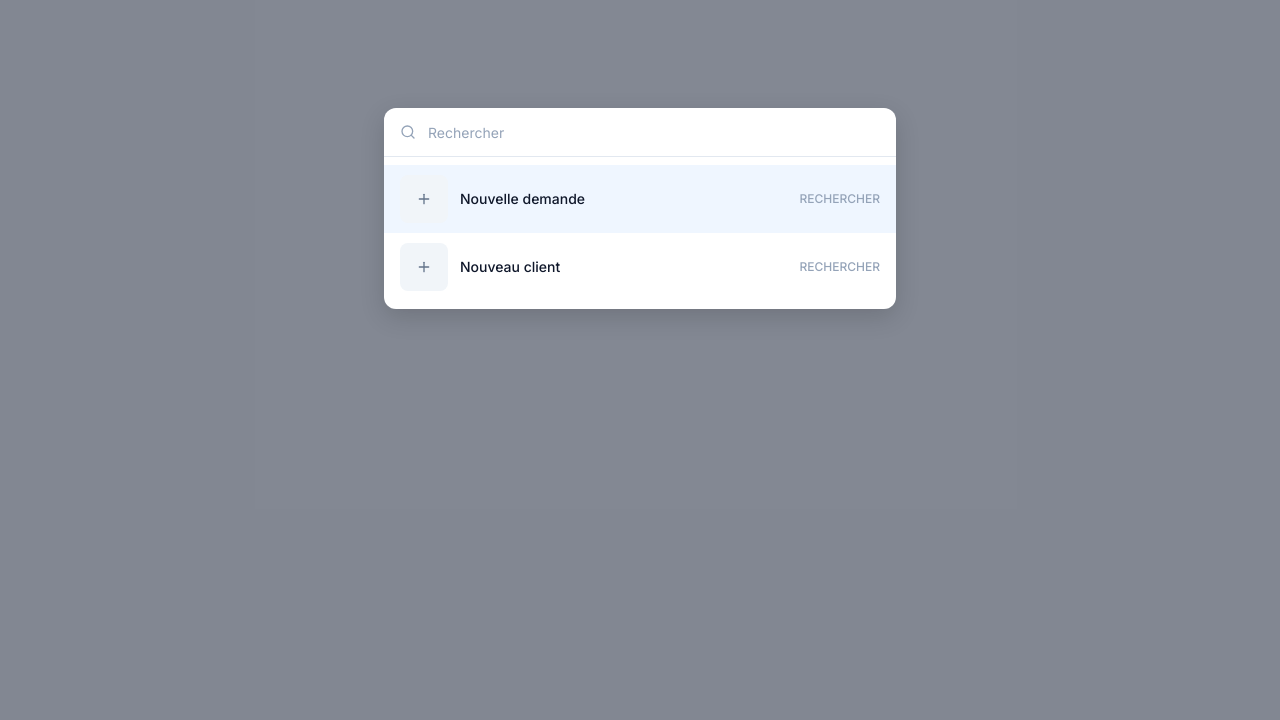
CommandPalette › filters clients by typed name
The width and height of the screenshot is (1280, 720).
Type "bintou" into the search field.
click(654, 132); type("bintou")  # box x1=428 y1=108 x2=880 y2=156
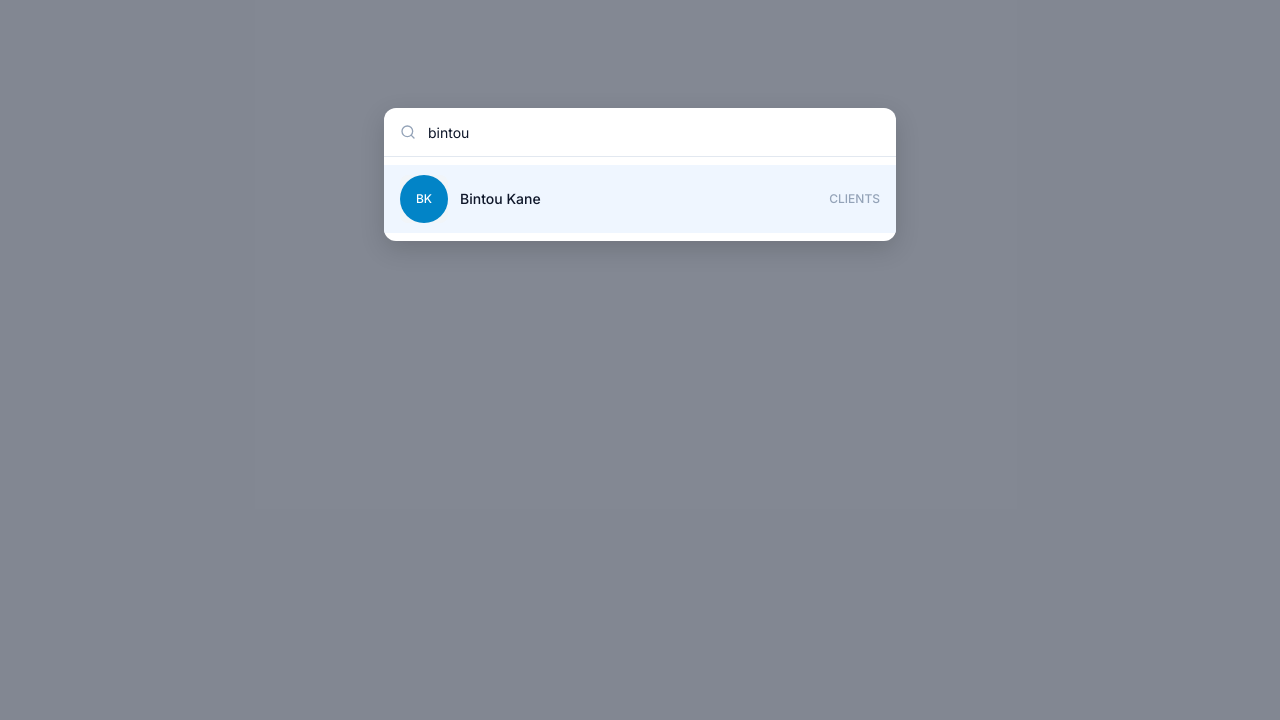
Expected: the text "Bintou Kane" is shown, x1=460 y1=190 x2=541 y2=207
Expected: the text "Clients" is shown, x1=829 y1=191 x2=880 y2=207
